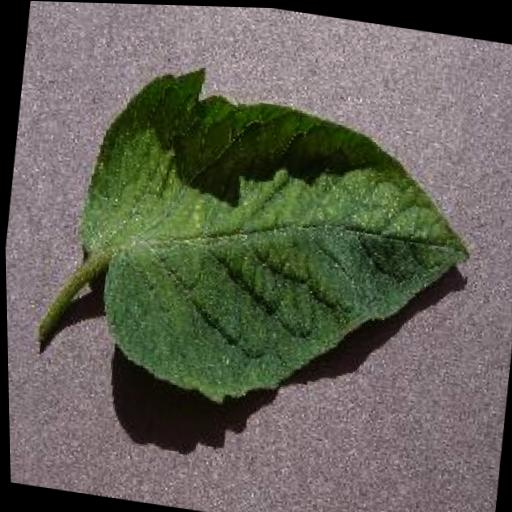Spider Mites: (56, 49, 490, 438)
